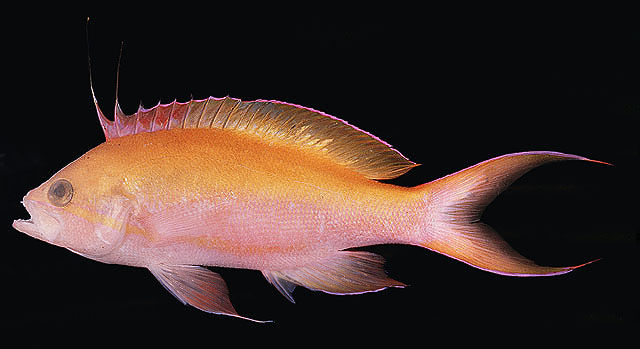fish: (12, 95, 609, 324)
